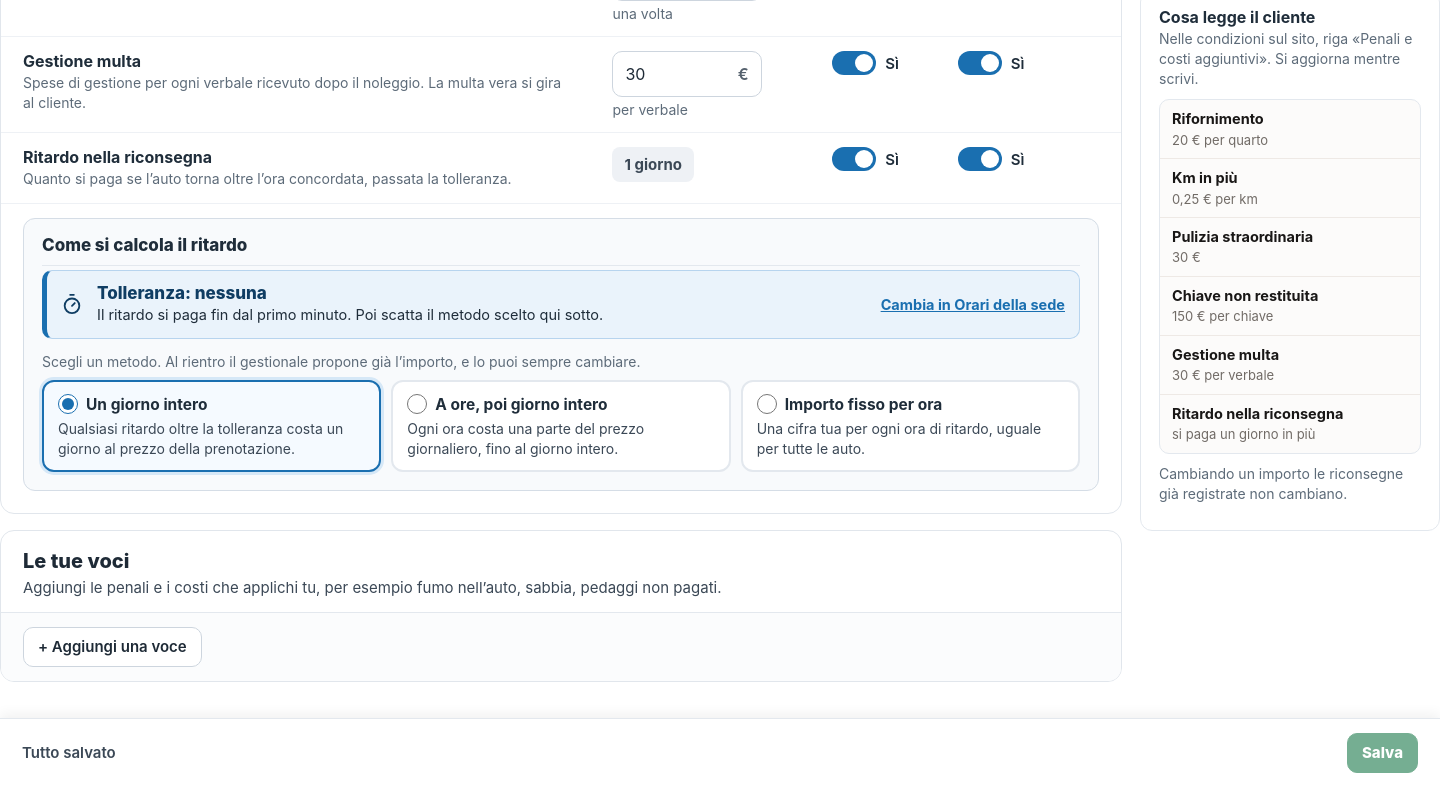
una voce personale si elimina solo dopo la conferma
(page scrolled)
Click the button "+ Aggiungi una voce" at (112, 647), box [23,627,202,667]
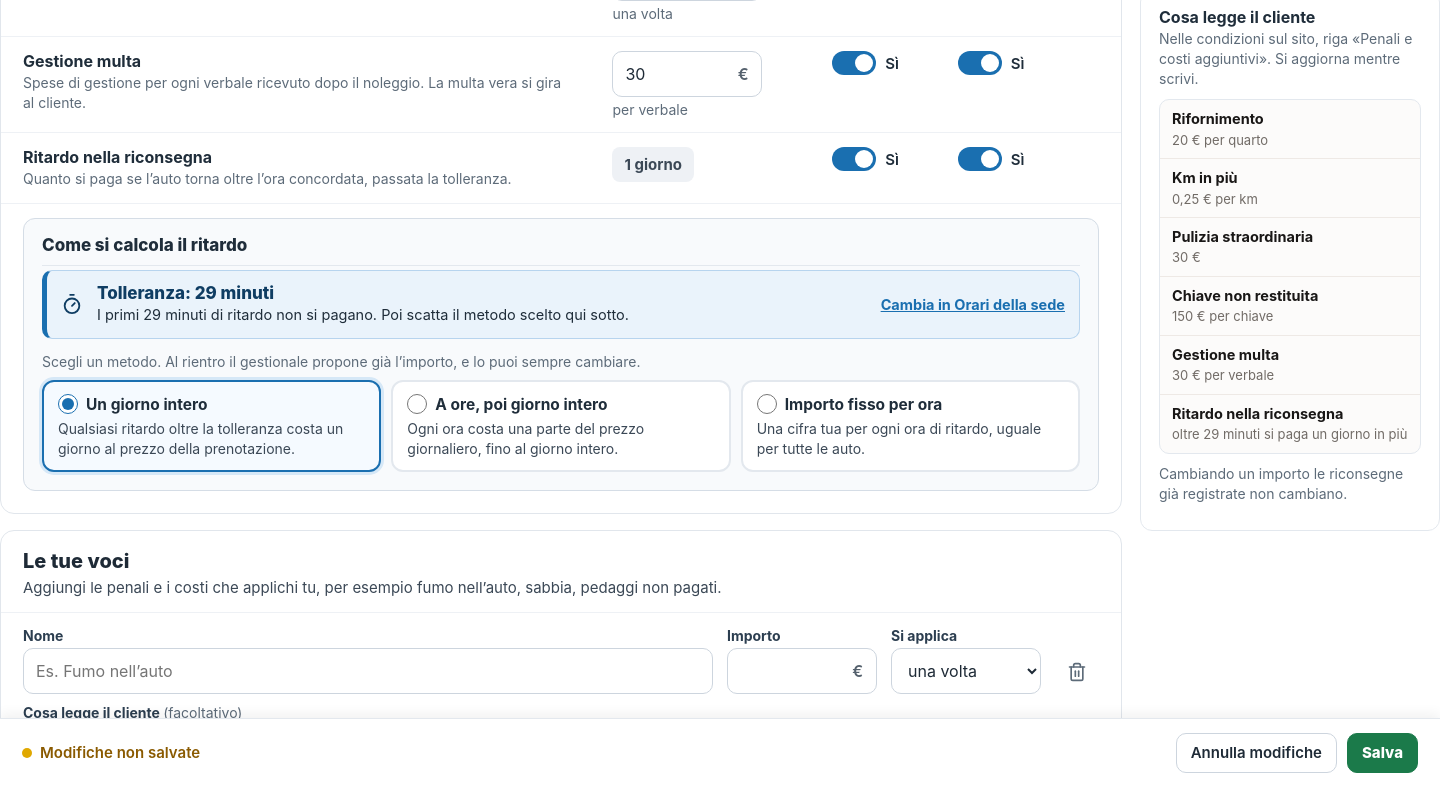
Type "Fumo" into the field labelled "Nome" at (368, 671), box [23,648,713,694]
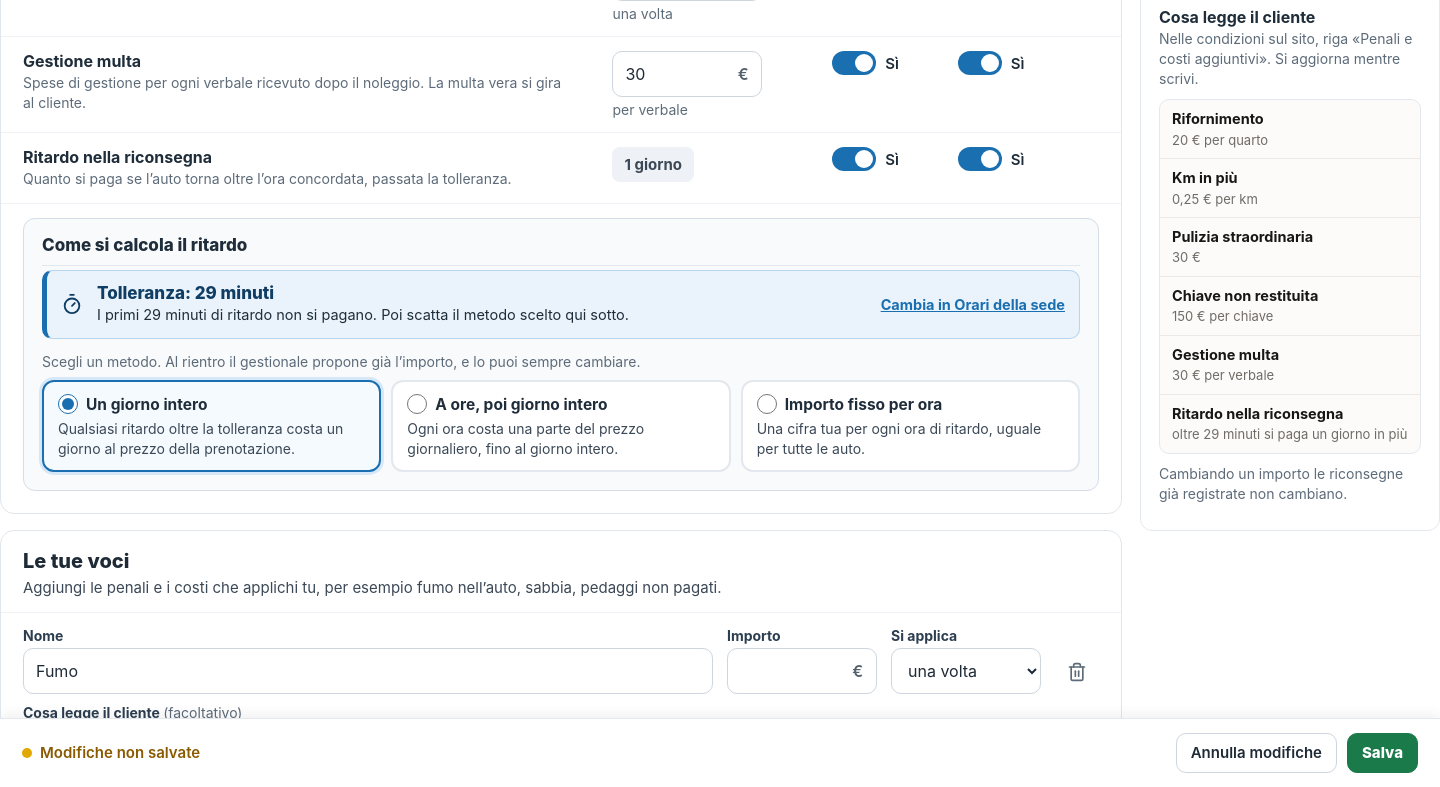
Click the button named "Elimina la voce Fumo" at (1077, 672), box [1055,650,1099,694]
(page scrolled)
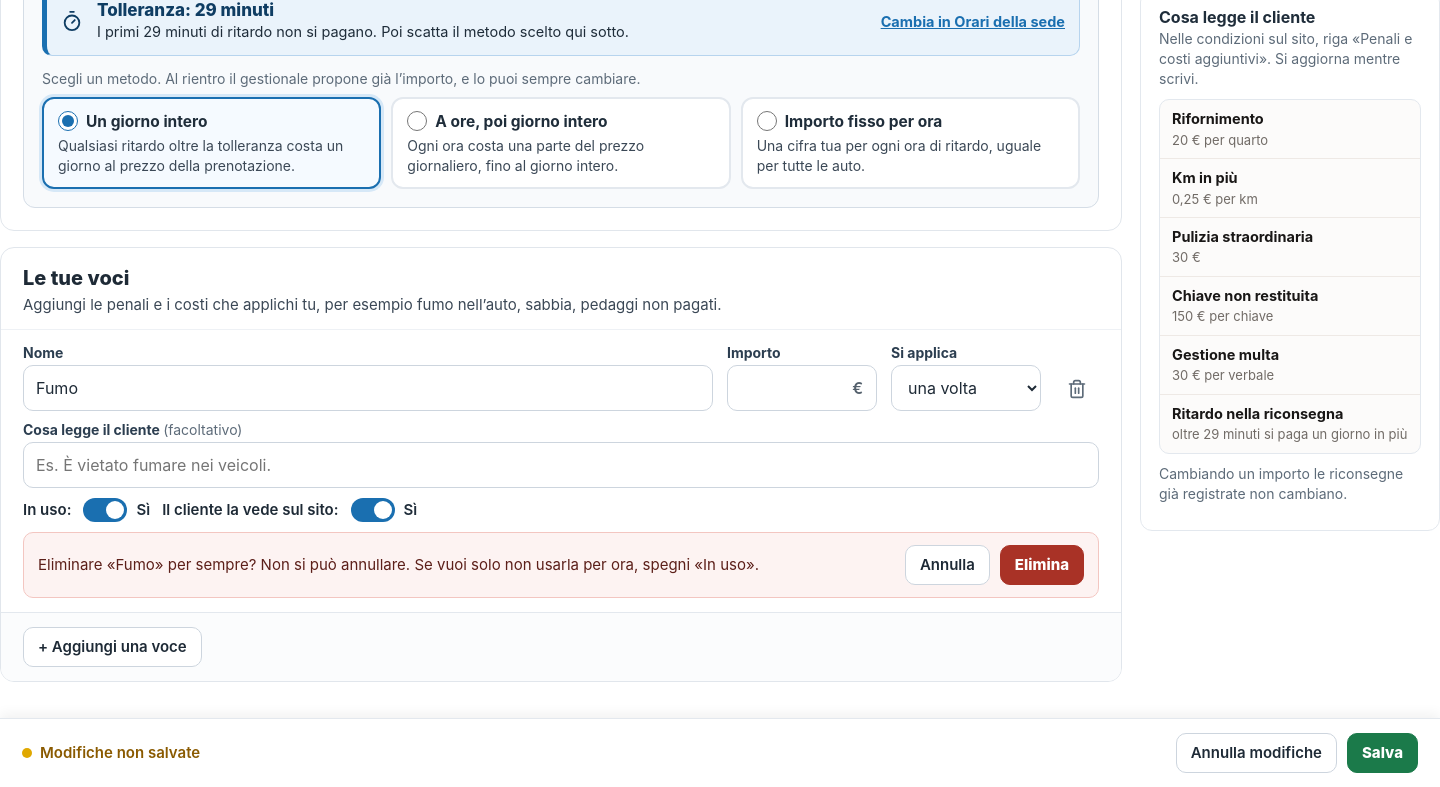
Result: the dialog is shown at [23,532,1099,598]
Click the button "Annulla" at (947, 565), box [905,545,990,585]
(page scrolled)
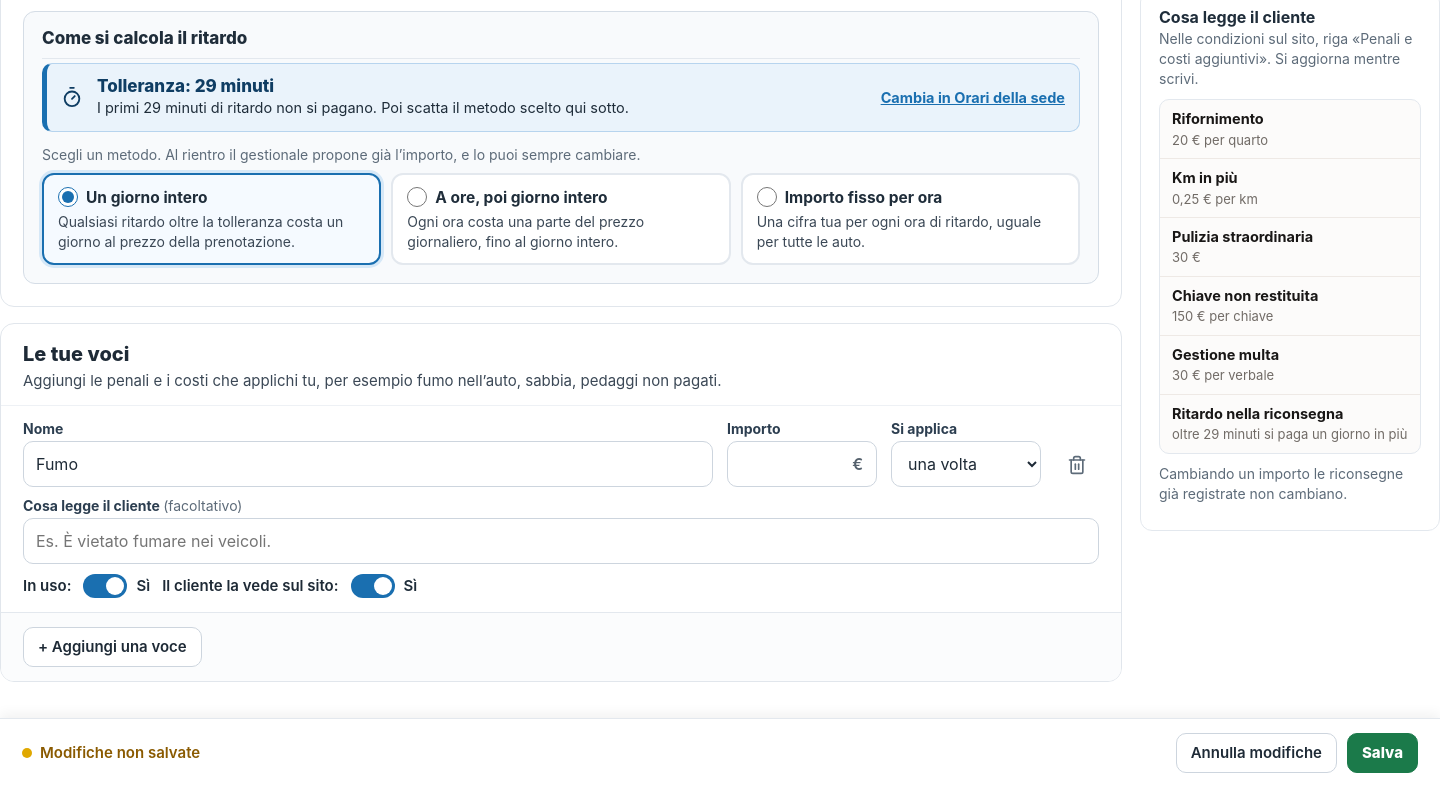
Click the button named "Elimina la voce Fumo" at (1077, 465), box [1055,443,1099,487]
(page scrolled)
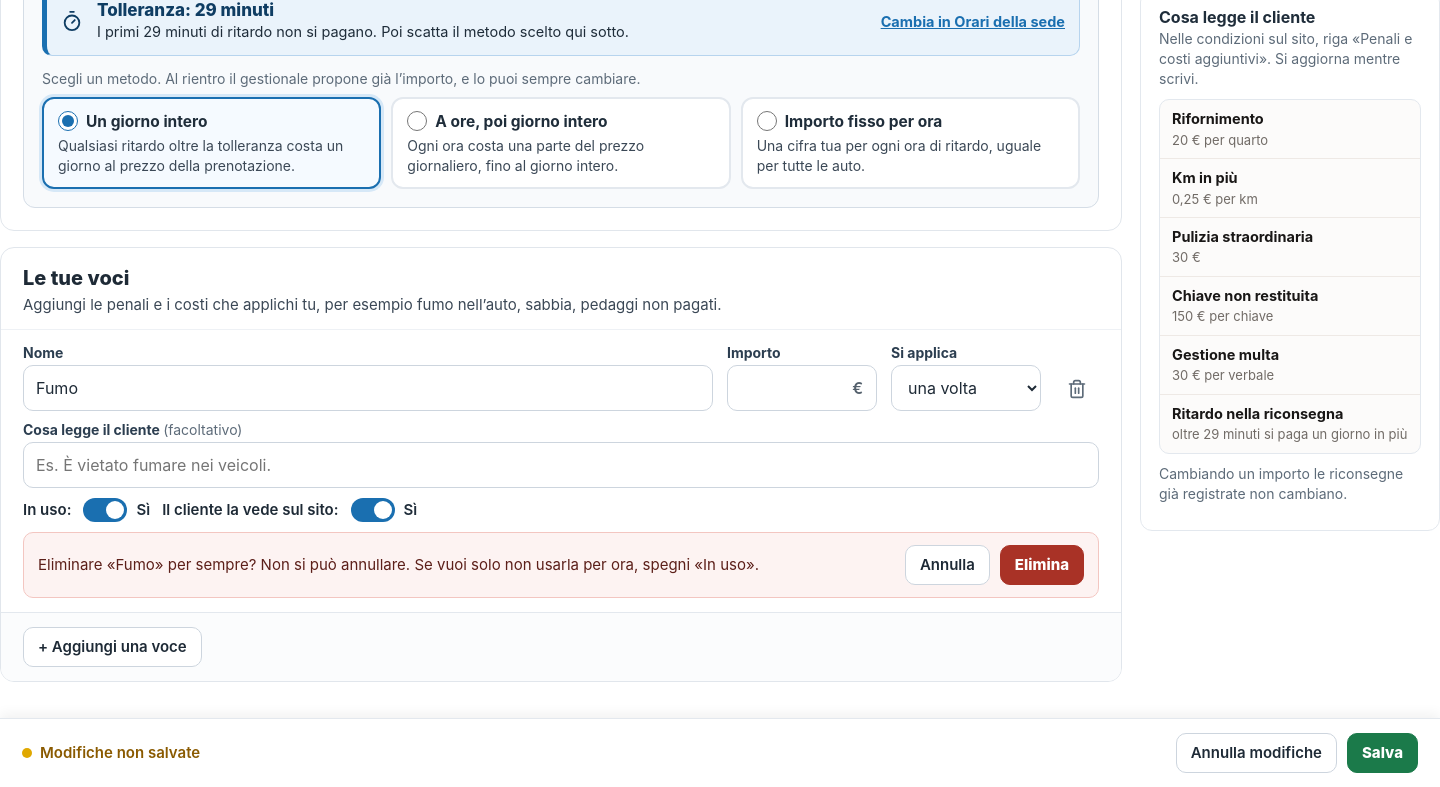
Click the button "Elimina" at (1042, 565), box [1000,545,1084,585]
(page scrolled)
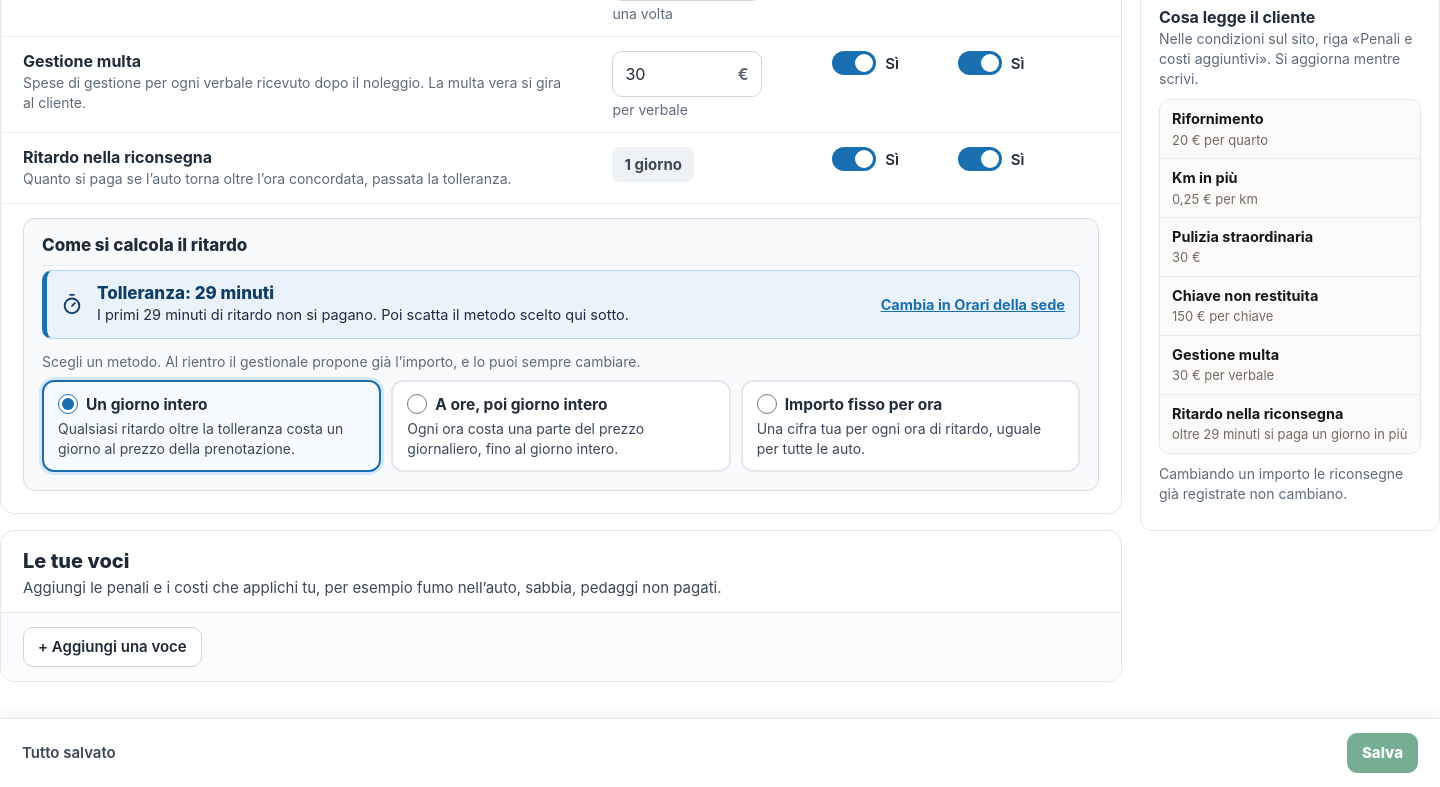
Result: the label labelled "Nome" is gone
